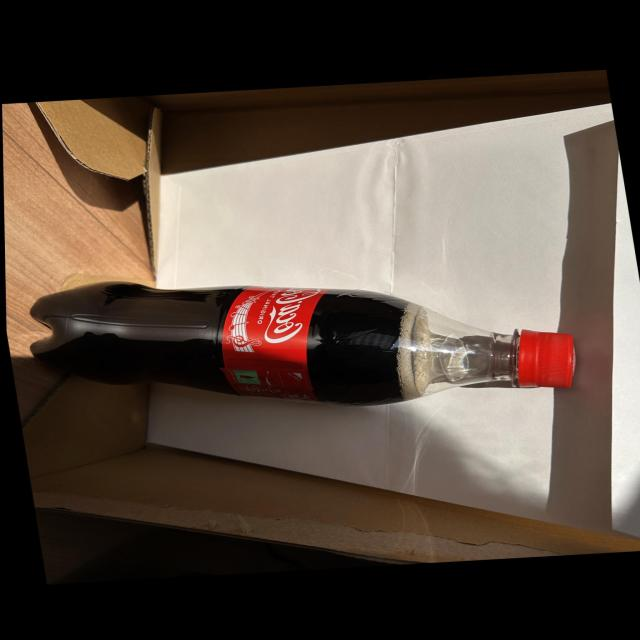high: (31, 282, 575, 406)
